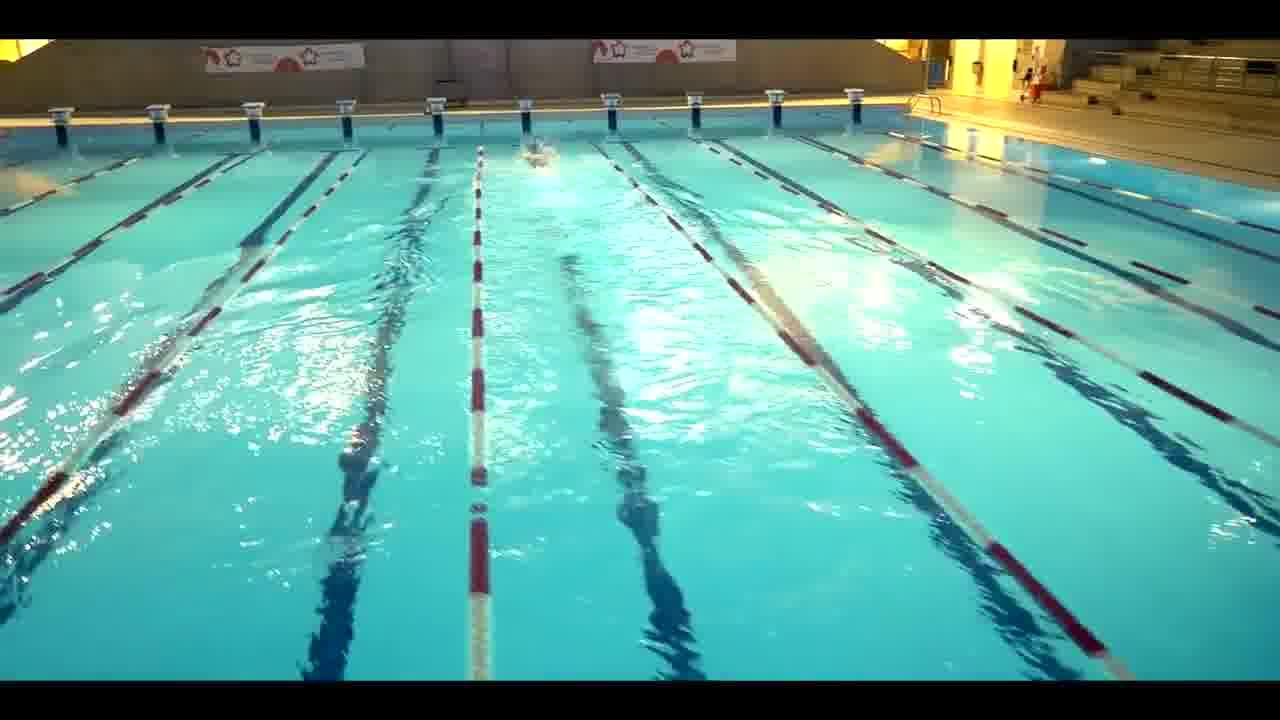human: (523, 141, 571, 175)
